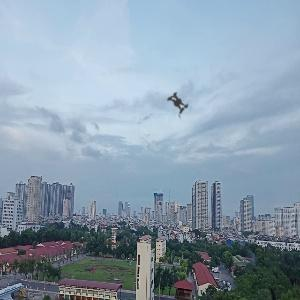drone: (152, 76, 205, 129)
